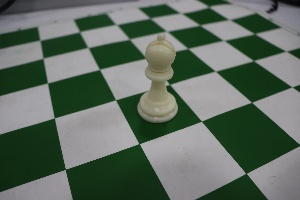white_bishop: (136, 29, 180, 126)
